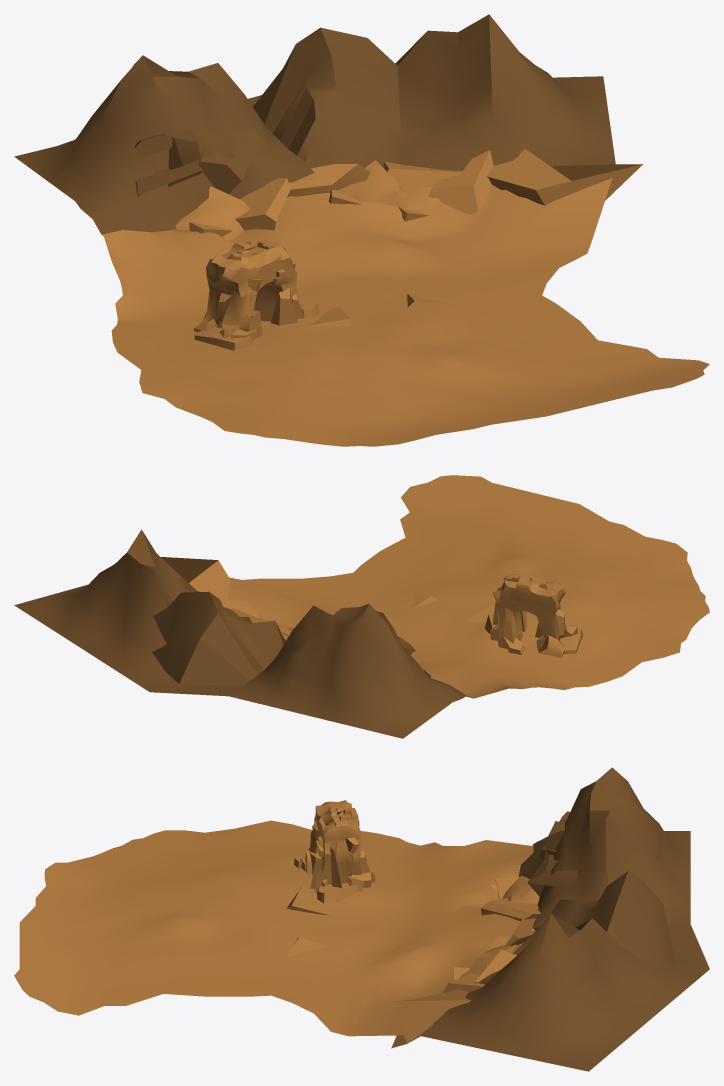
File: Model_Level_low_poly.fbx
3 views of the same model, one above another, from view 1: azimuth 30°, elevation 25°; view 2: azimuth 150°, elevation 25°; view 3: azimuth 270°, elevation 25° (orthographic). The views are drawn at different scales.
Parts seen in each view (by area): view 1: Cube_1; view 2: Cube_1; view 3: Cube_1.
Part boxes in pixels (x1,y1,x2,y2): Cube_1: (14,14,709,446); Cube_1: (14,475,709,738); Cube_1: (14,767,709,1071).
Bounding box in the file's own units: 1465 × 384 × 1542.
